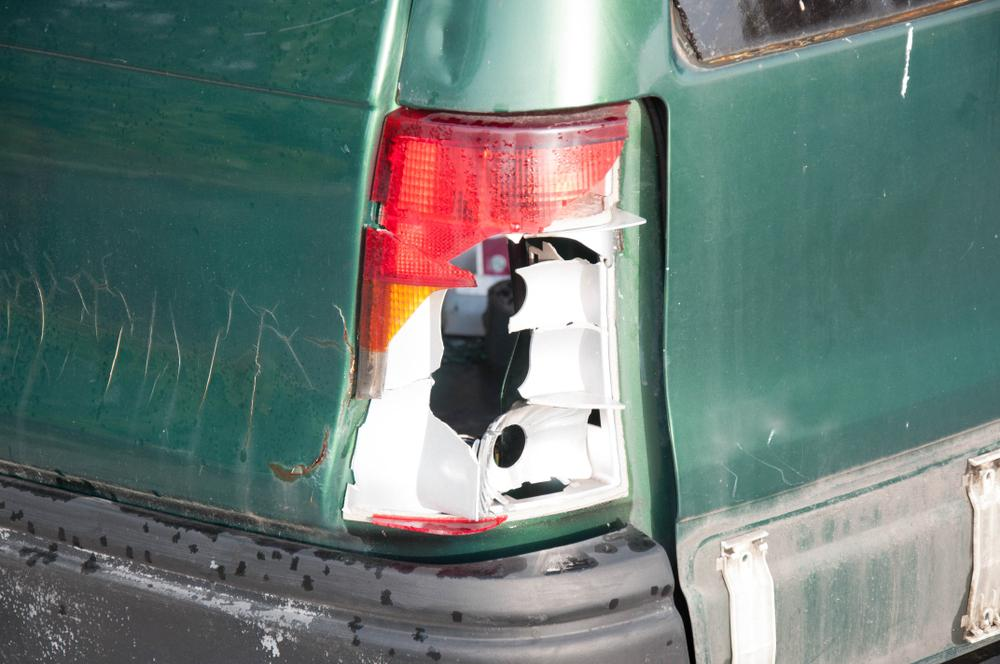dent: (433, 0, 484, 86)
lamp broken: (345, 102, 648, 556)
